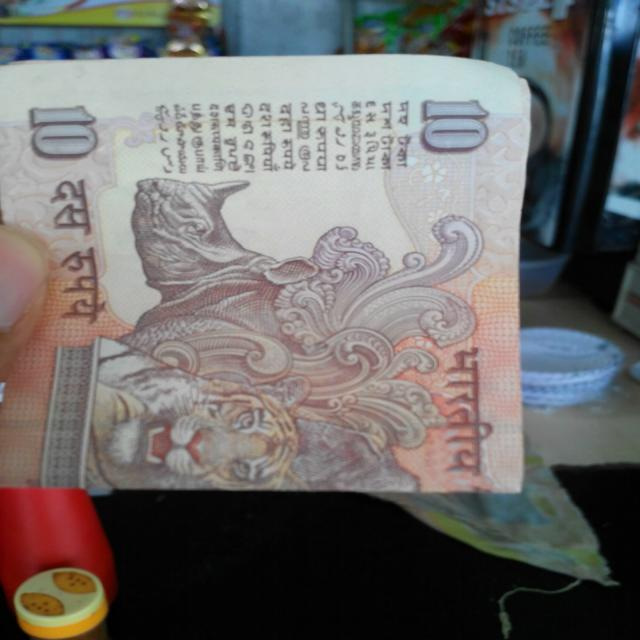10rs: (0, 54, 529, 494)
